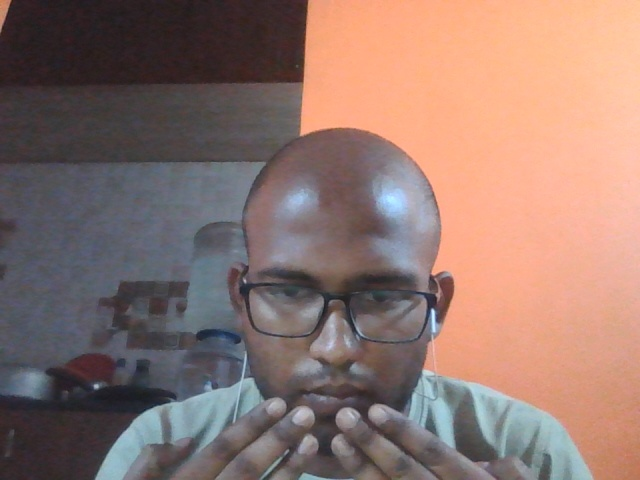thanks: (94, 352, 547, 480)
